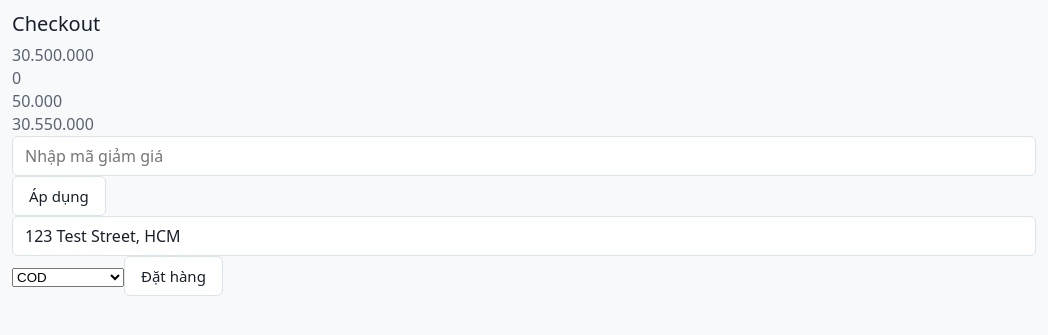
Purchase Mock Tests › Mock: Đặt hàng thất bại khi không đủ tồn kho
What coordinates should you click on to do the following:
click the button with test id "place-order-btn"
I would click on:
 (173, 276)
Its box is [124,256,223,296].
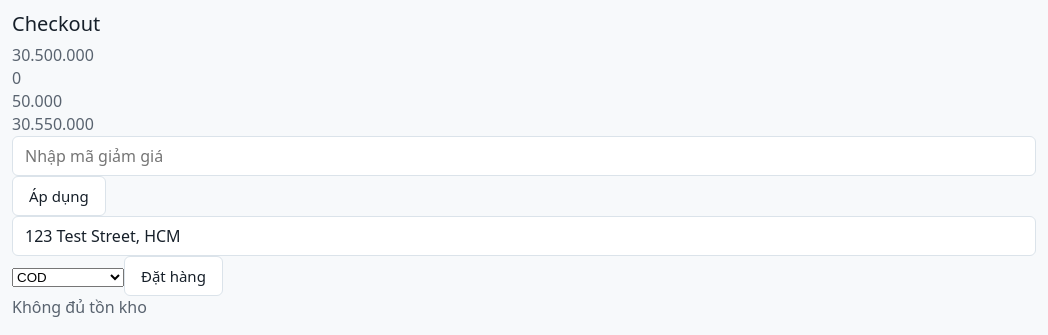
Result: the text "Không đủ tồn kho" is shown at [12,296,147,318]
